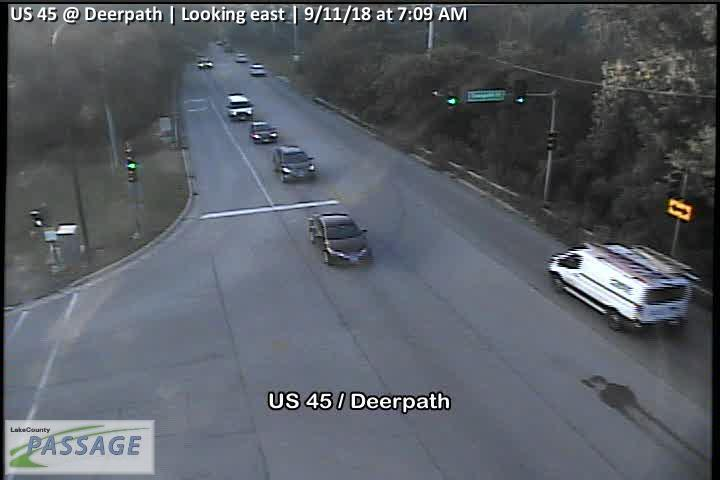SUV: (548, 244, 691, 331), (308, 212, 370, 266), (273, 146, 316, 183), (224, 93, 254, 121), (249, 120, 278, 144), (247, 62, 265, 78)
